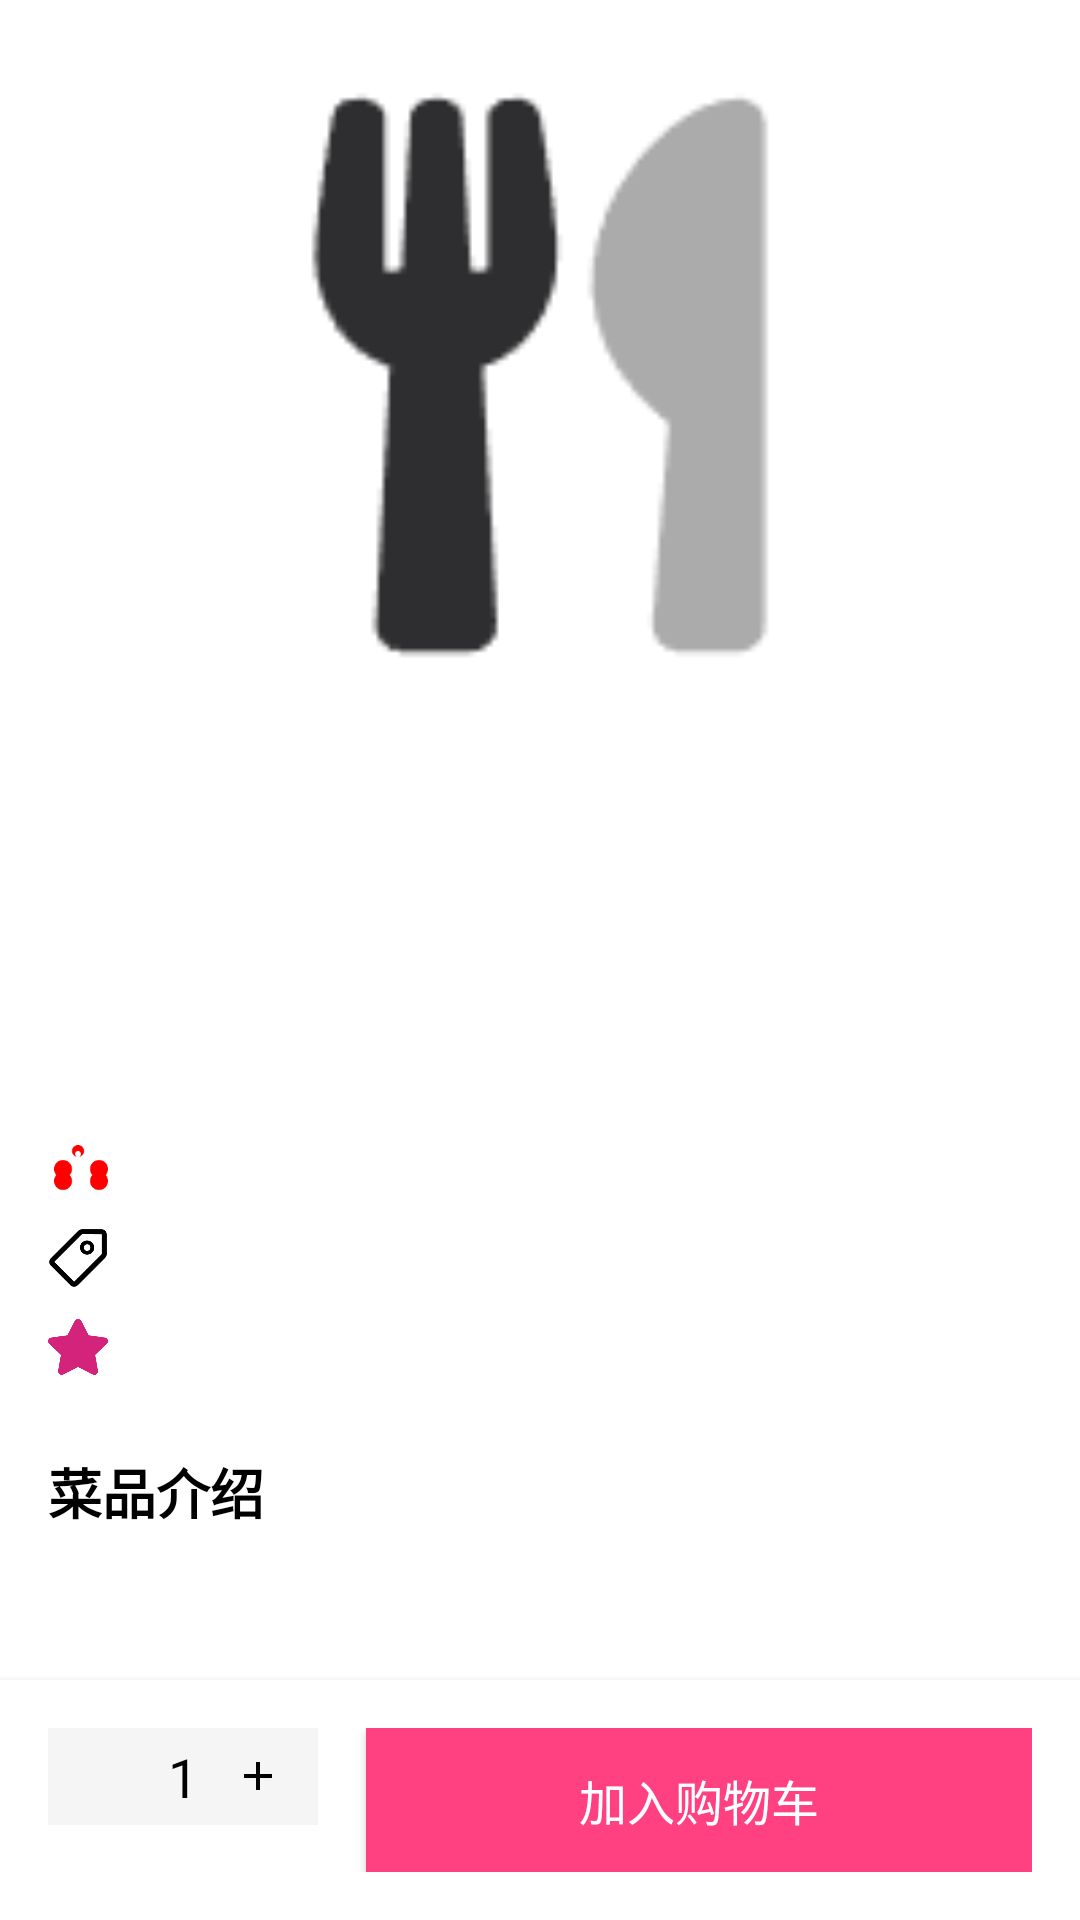

Icon bounding boxes for this 1080x1920 phone screenshot, format (x1, y1, x2, y2):
plus: (244, 1762, 272, 1790)
rating: (48, 1319, 108, 1375)
sales: (49, 1229, 107, 1287)
